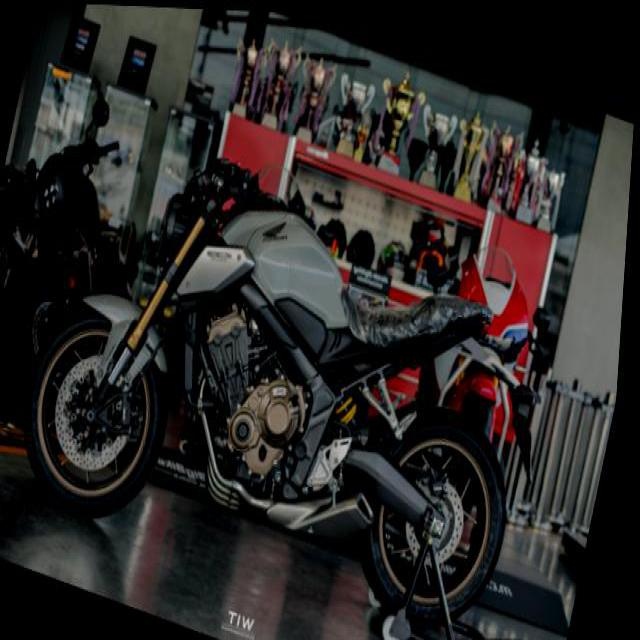CB650R: (3, 111, 569, 639)
